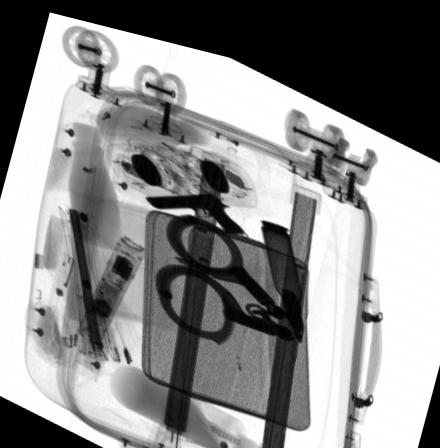Baton: (64, 225, 146, 375)
Bullet: (254, 204, 305, 328)
Gun: (142, 181, 246, 222)
HandCuffs: (152, 203, 300, 335)
